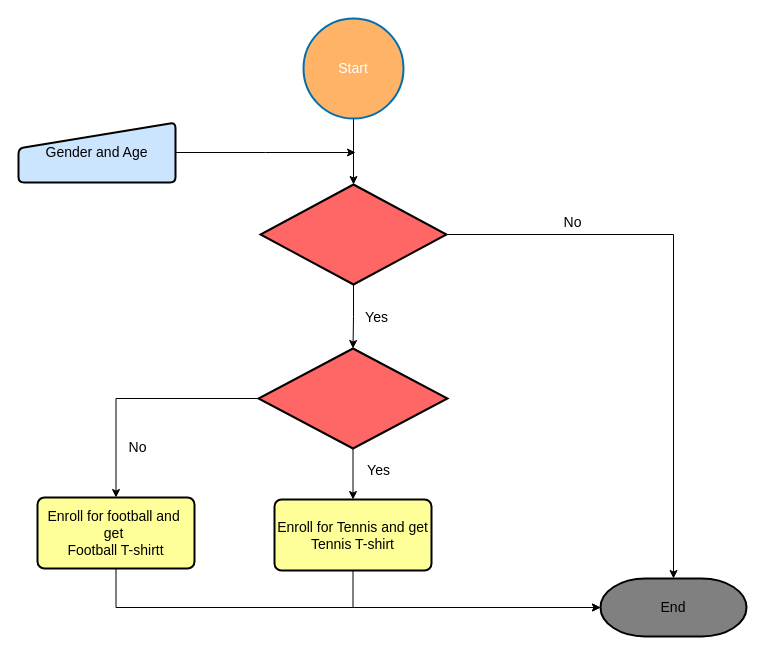
The diagram is 764 pixels wide and 654 high, and some of its shapes have lost their labels. The shapes that lost their labels are listed below. From the top down, each one's centre as x and y in pixels, then its label:
the point at 353,234: If kid ?
the point at 352,398: If Male Kid ?
